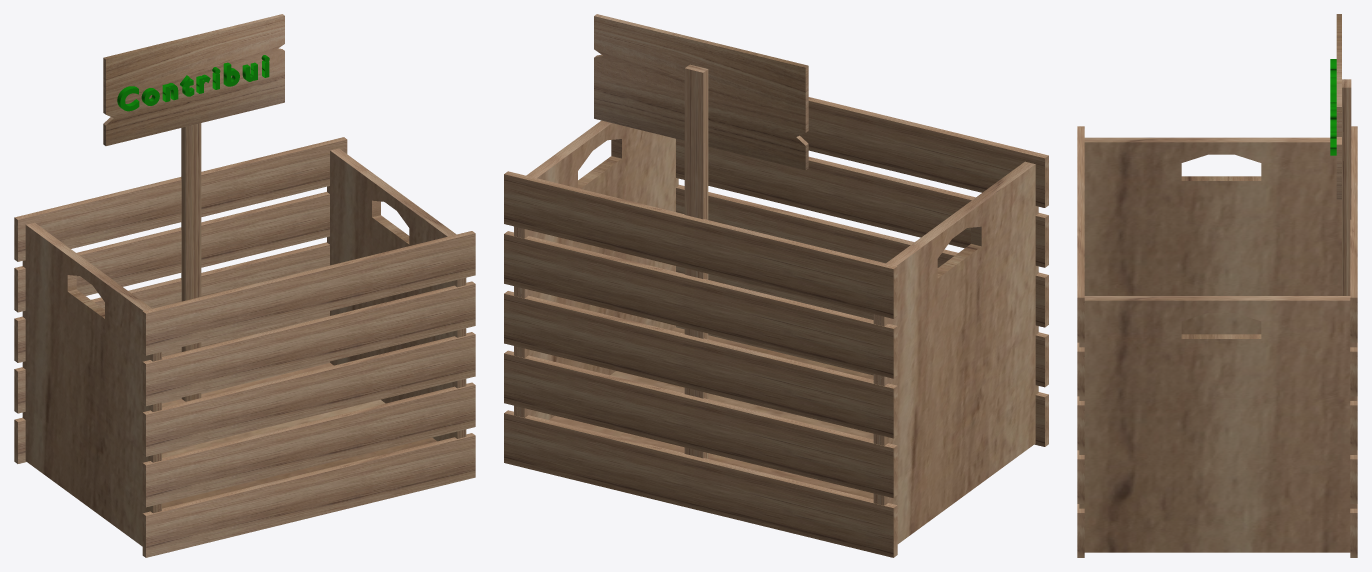
The model's file is caixotecontribui.glb.
3 renders of one model, left to right at view 1: azimuth 30°, elevation 25°; view 2: azimuth 150°, elevation 25°; view 3: azimuth 270°, elevation 25°, orthographic. The views are drawn at different scales.
Parts seen in each view (by area): view 1: Cube.001; view 2: Cube.001; view 3: Cube.001.
Boxes of the visible parts, x1,y1,x2,y2 form: Cube.001: (14,14,475,557); Cube.001: (504,14,1048,557); Cube.001: (1077,14,1357,557).
Bounding box in the file's own units: 2.92 × 3.29 × 2.02.
2 materials, 1 textured.
